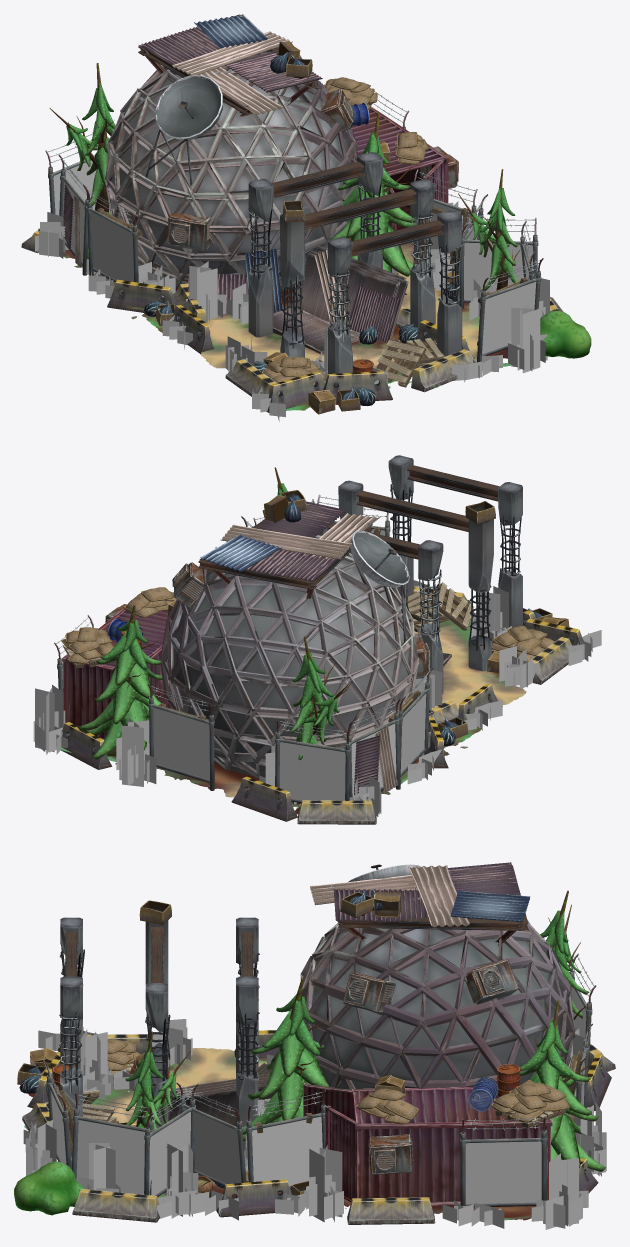
The model's file is lab.fbx.
3 views of the same model, one above another, from view 1: azimuth 30°, elevation 25°; view 2: azimuth 150°, elevation 25°; view 3: azimuth 270°, elevation 25° (orthographic). The views are drawn at different scales.
Visible parts, largest first — view 1: lab; view 2: lab; view 3: lab.
Boxes of the visible parts, <box> form: lab: <box>21,14,591,421</box>; lab: <box>33,455,601,824</box>; lab: <box>14,862,615,1229</box>.
Size of the model in its own units: 20.99 by 12.99 by 28.11.
